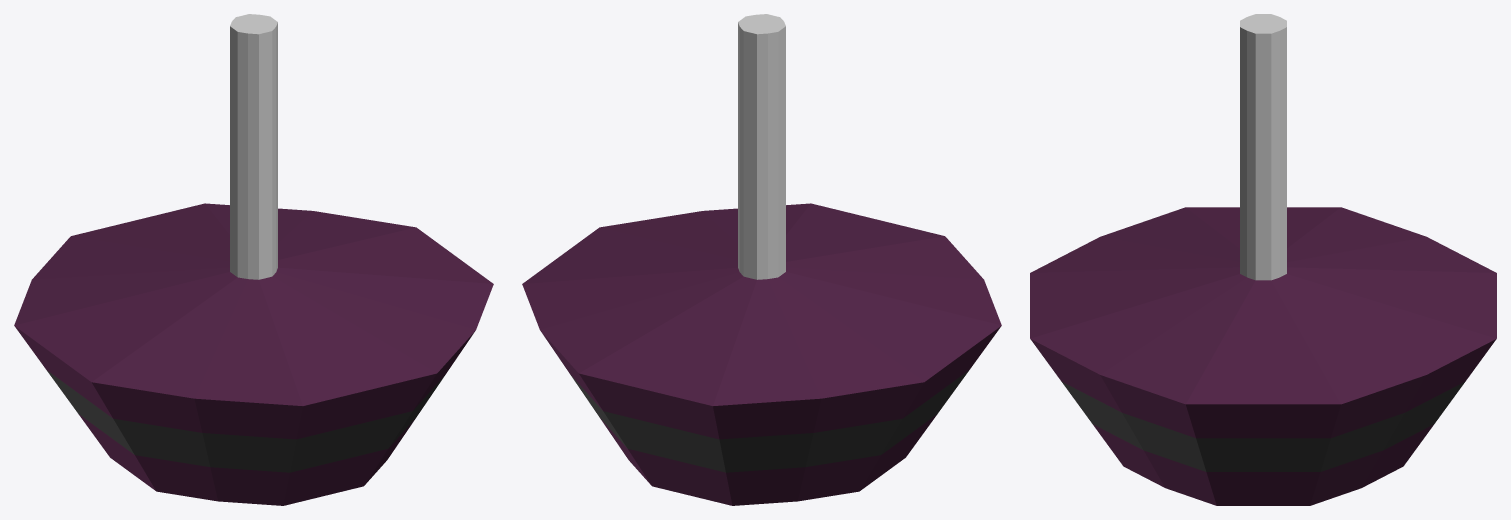
Rendered from Light.fbx.
3 renders of one model, left to right at view 1: azimuth 30°, elevation 25°; view 2: azimuth 150°, elevation 25°; view 3: azimuth 270°, elevation 25°, orthographic.
Visible parts, largest first — view 1: Light; view 2: Light; view 3: Light.
Boxes of the visible parts, box(x1,y1,x2,y2) form: Light: box(14, 14, 493, 505); Light: box(522, 14, 1001, 505); Light: box(1030, 14, 1496, 505).
Size of the model in its own units: 400 by 400 by 400.
